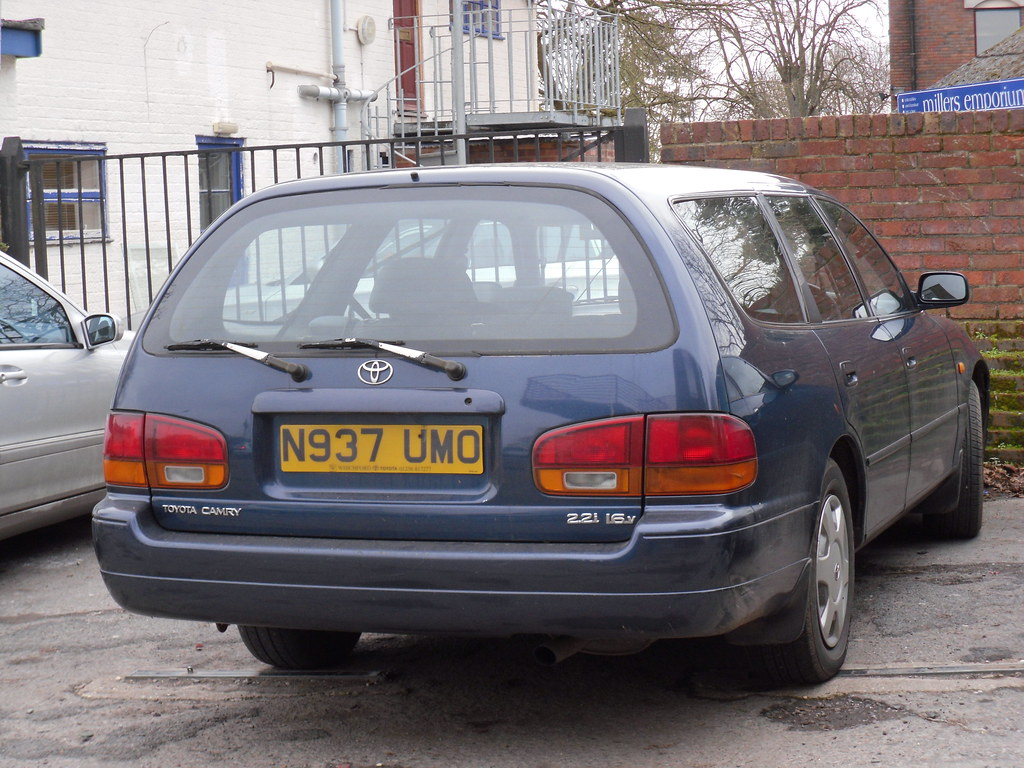car: (84, 157, 1000, 691)
